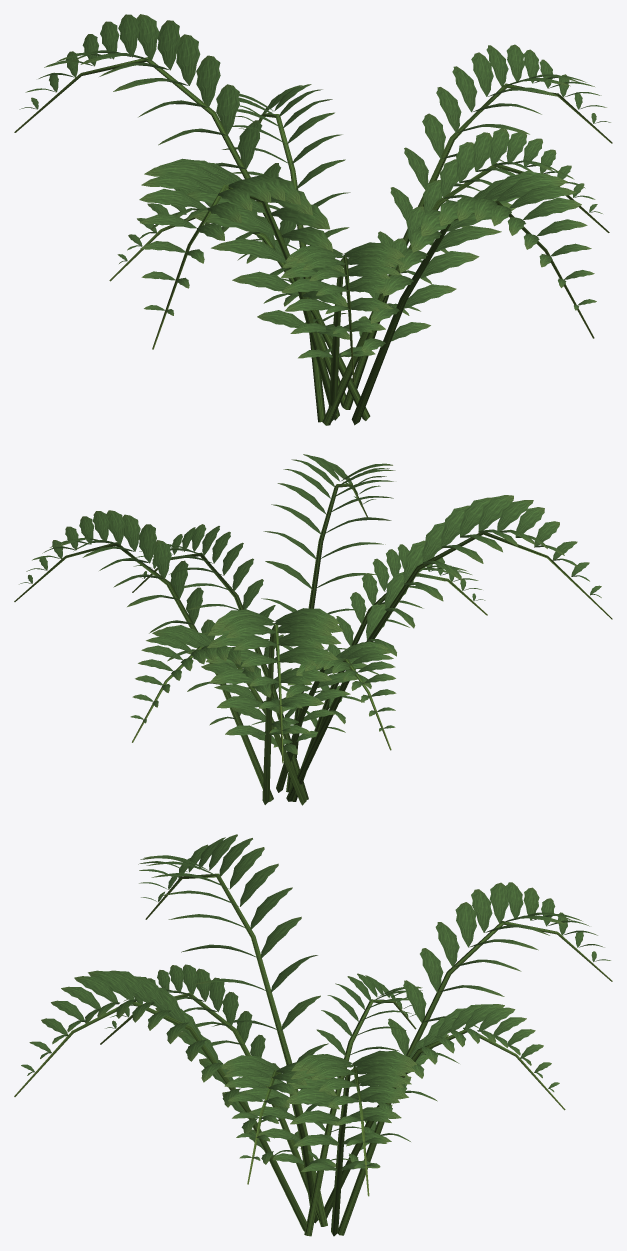
The model's file is LadyFern_A.fbx.
3 views of the same model, one above another, from view 1: azimuth 30°, elevation 25°; view 2: azimuth 150°, elevation 25°; view 3: azimuth 270°, elevation 25° (orthographic). The views are drawn at different scales.
Visible parts, largest first — view 1: LadyFern_A_LOD0; view 2: LadyFern_A_LOD0; view 3: LadyFern_A_LOD0.
Boxes of the visible parts, x1,y1,x2,y2 form: LadyFern_A_LOD0: (14, 14, 612, 425); LadyFern_A_LOD0: (14, 454, 612, 805); LadyFern_A_LOD0: (14, 834, 612, 1236).
Size of what is drawn, in the model's own units: 41.21 by 22.69 by 41.46.
Materials: 1 (1 with a texture image).
